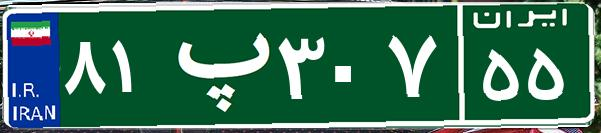0: (330, 28, 385, 110)
1: (110, 28, 158, 105)
3: (273, 28, 330, 110)
5: (475, 38, 525, 113), (525, 38, 570, 115)
7: (385, 28, 445, 110)
8: (57, 26, 110, 107)
پ: (158, 15, 273, 115)
